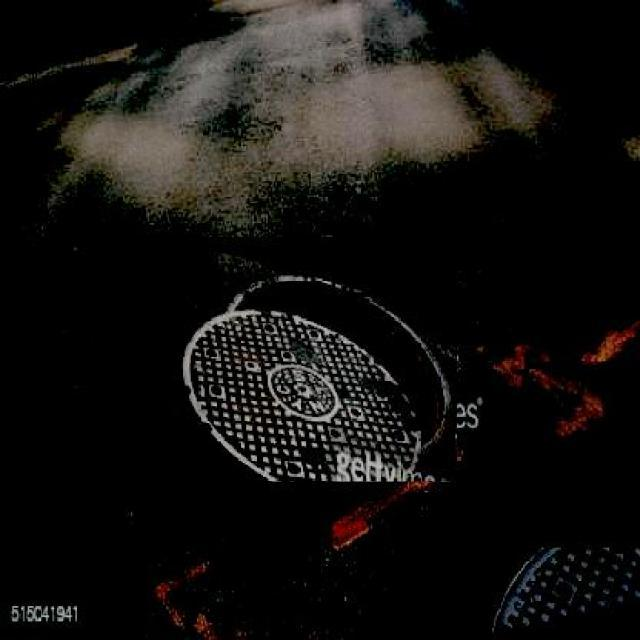Manhole: (227, 351, 375, 462), (480, 547, 640, 640)
Open Manhole: (168, 236, 458, 482)
